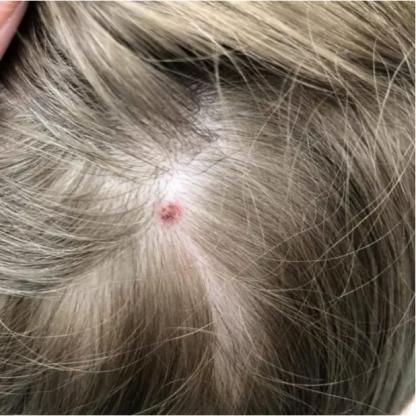Tick: (146, 194, 192, 234)
